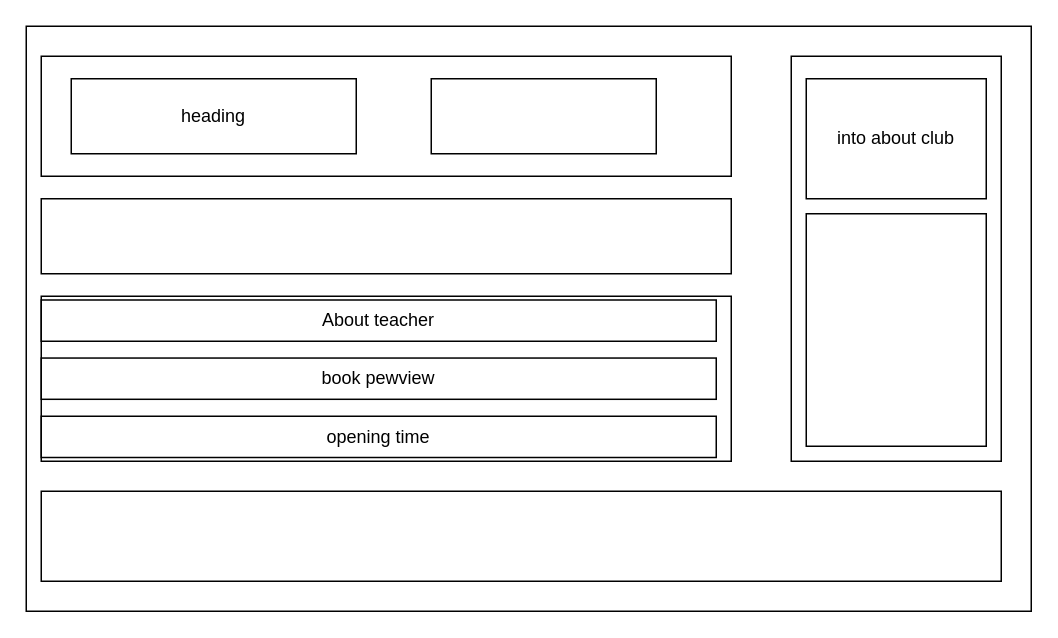
The diagram is 1058 pixels wide and 638 high, and some of its shapes have lost their labels. Here are the shapes that lost their labels. From the top down, the centre of each, then its label:
At (x=543, y=115): "image".
At (x=385, y=235): "Nav bar".
At (x=895, y=329): "Best seller books".
